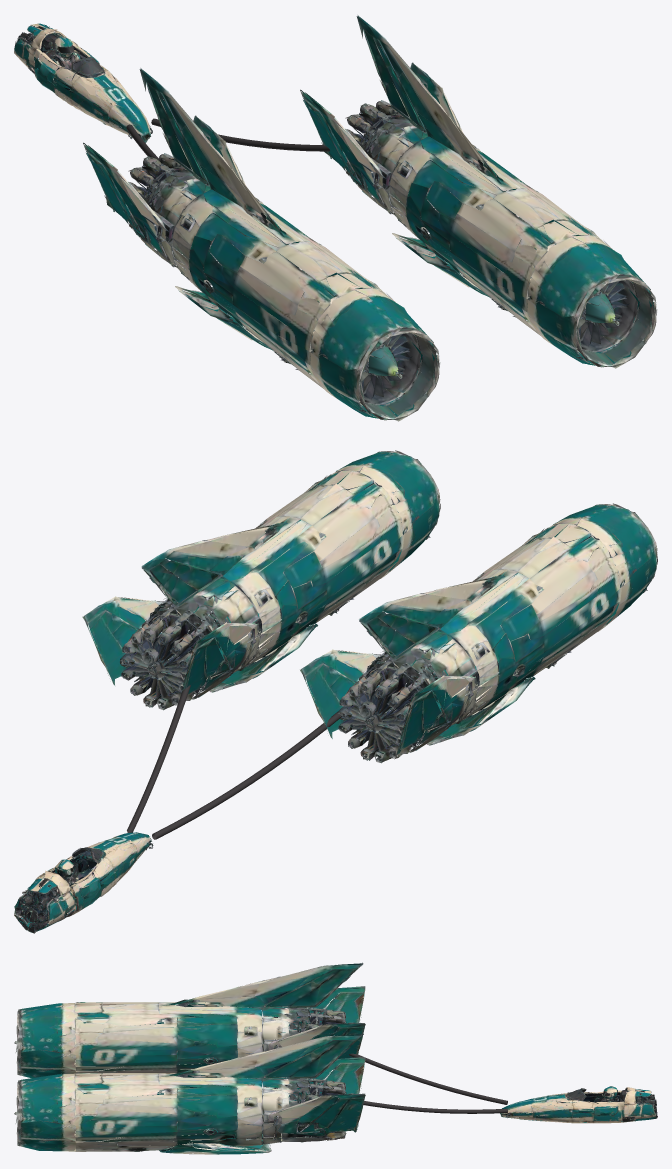
Rendered from kestrel-rival.glb.
3 views of the same model, one above another, from view 1: azimuth 30°, elevation 25°; view 2: azimuth 150°, elevation 25°; view 3: azimuth 270°, elevation 25° (orthographic). The views are drawn at different scales.
Visible parts, largest first — view 1: kestrel-engine-left-body, kestrel-engine-right-body, kestrel-cockpit-body, kestrel-tow-cables; view 2: kestrel-engine-right-body, kestrel-engine-left-body, kestrel-cockpit-body, kestrel-tow-cables; view 3: kestrel-engine-right-body, kestrel-engine-left-body, kestrel-cockpit-body, kestrel-tow-cables.
Boxes of the visible parts, x1=… form: kestrel-engine-left-body: x1=83, y1=68, x2=440, y2=421; kestrel-engine-right-body: x1=300, y1=15, x2=657, y2=368; kestrel-cockpit-body: x1=14, y1=23, x2=152, y2=143; kestrel-tow-cables: x1=126, y1=118, x2=329, y2=160; kestrel-engine-right-body: x1=82, y1=450, x2=440, y2=710; kestrel-engine-left-body: x1=300, y1=503, x2=657, y2=763; kestrel-cockpit-body: x1=14, y1=832, x2=153, y2=933; kestrel-tow-cables: x1=127, y1=685, x2=345, y2=839; kestrel-engine-right-body: x1=14, y1=1034, x2=365, y2=1154; kestrel-engine-left-body: x1=14, y1=962, x2=365, y2=1081; kestrel-cockpit-body: x1=500, y1=1086, x2=657, y2=1123; kestrel-tow-cables: x1=349, y1=1053, x2=507, y2=1113.
Size of the model in its own units: 12.34 by 6.59 by 31.12.
Materials: 3 (2 with a texture image).
